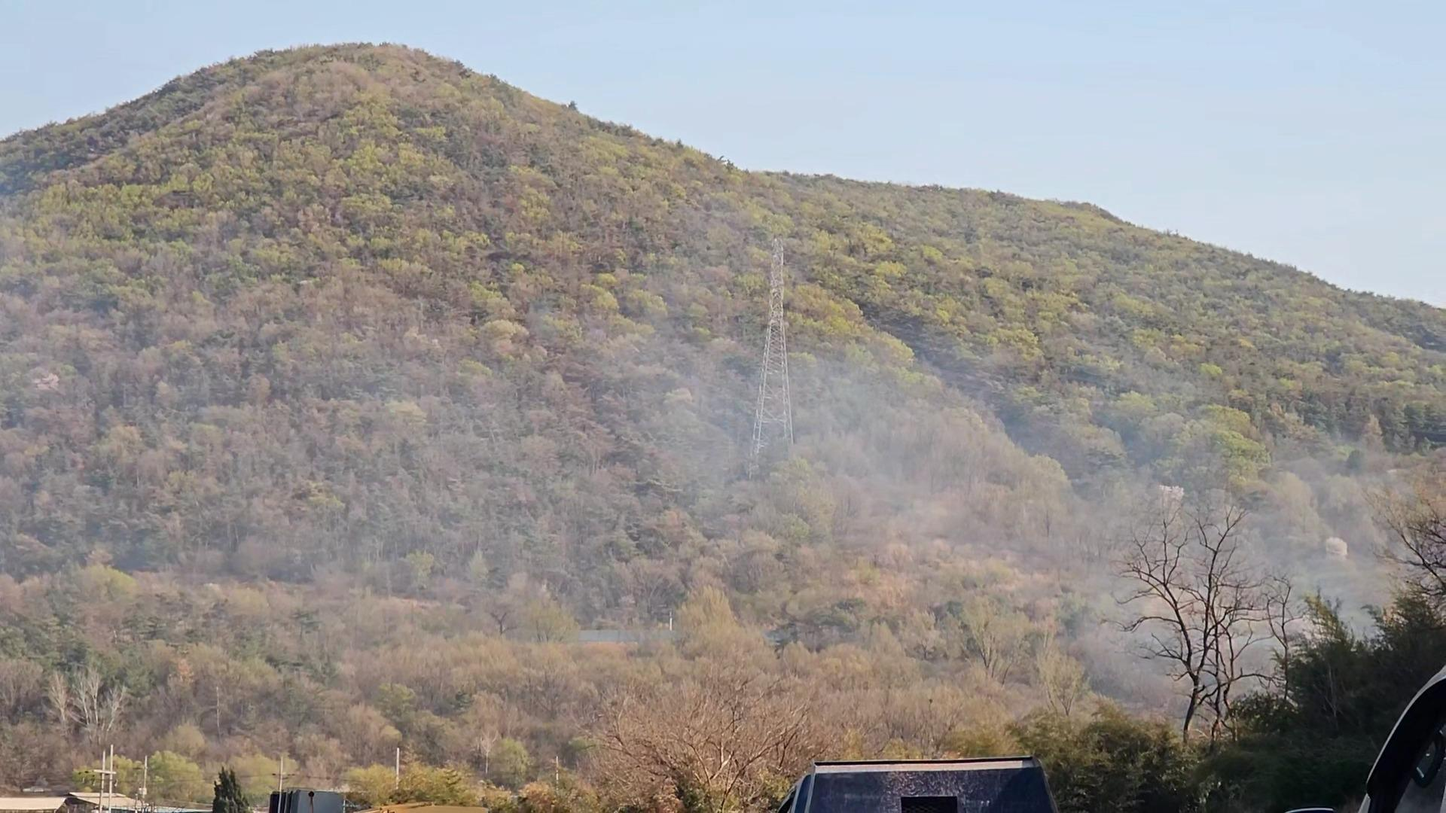smoke: (553, 312, 1385, 703)
